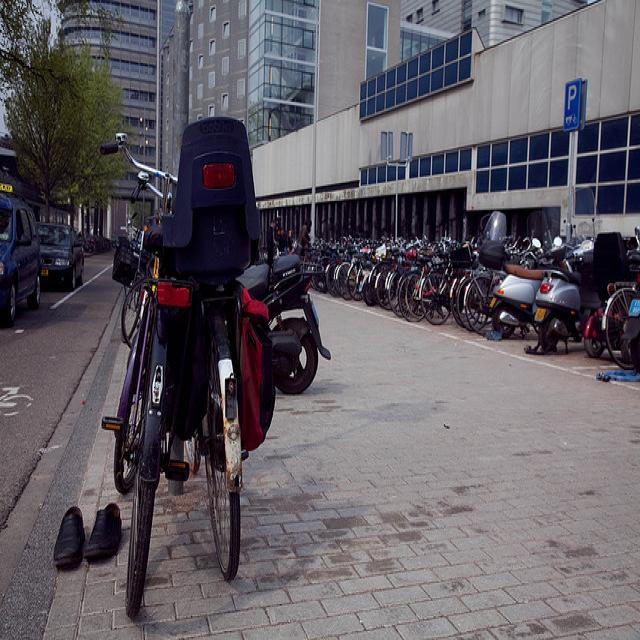motor: (235, 252, 332, 396), (490, 238, 577, 339), (533, 258, 601, 354), (582, 268, 637, 359), (473, 210, 505, 261), (622, 289, 640, 372)
